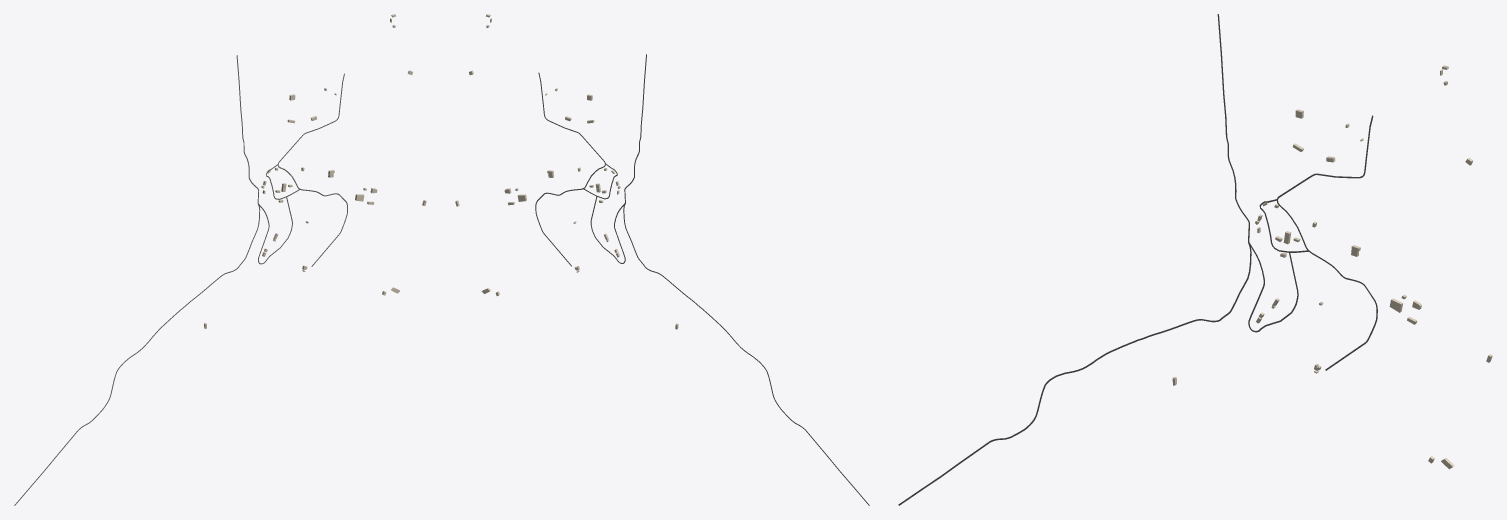
File: irbid_3594_3245.glb
The picture shows the model from 3 angles, left to right: view 1: azimuth 30°, elevation 25°; view 2: azimuth 150°, elevation 25°; view 3: azimuth 330°, elevation 25°; orthographic projection. The views are drawn at different scales.
Parts seen in each view (by area): view 1: Road; view 2: Road; view 3: Road, Road .003.
Boxes of the visible parts, x1,y1,x2,y2 form: Road: (14,55,260,505); Road: (623,54,869,505); Road: (898,14,1251,505); Road .003: (1277,115,1377,370).
Size of the model in its own units: 1355 by 1249 by 8.7.
